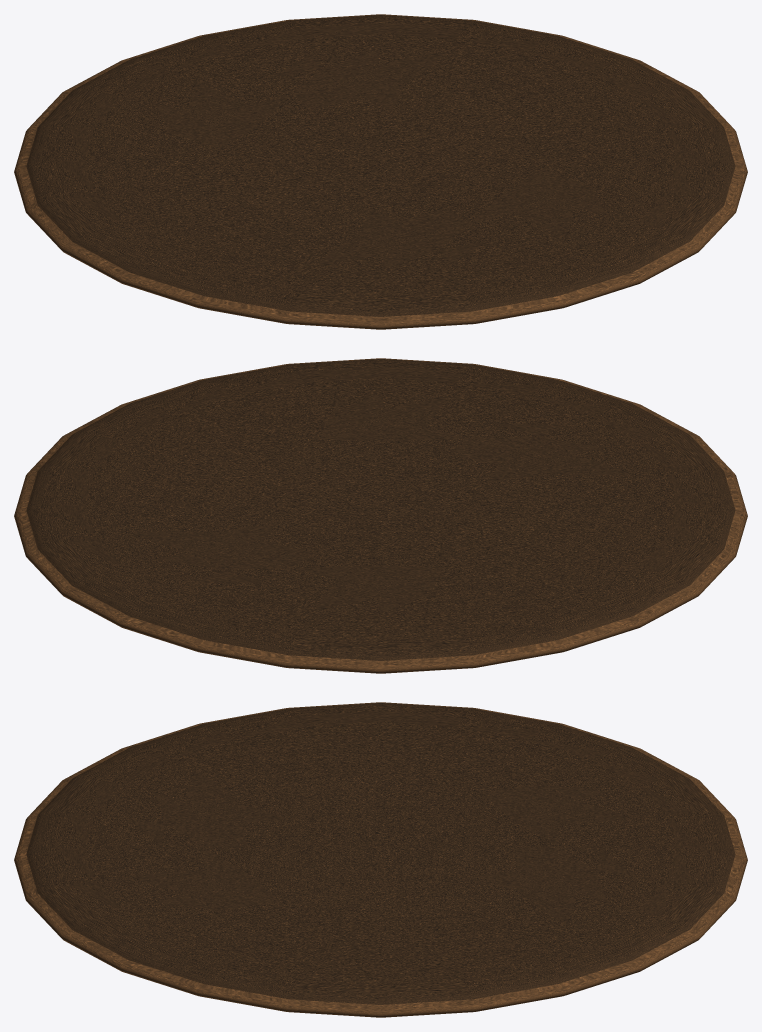
File: Circularcarpet.fbx
3 views of the same model, one above another, from view 1: azimuth 30°, elevation 25°; view 2: azimuth 150°, elevation 25°; view 3: azimuth 270°, elevation 25° (orthographic).
Visible parts, largest first — view 1: circularcarpet; view 2: circularcarpet; view 3: circularcarpet.
Boxes of the visible parts, x1,y1,x2,y2 form: circularcarpet: (14, 14, 747, 329); circularcarpet: (14, 358, 747, 673); circularcarpet: (14, 702, 747, 1017).
Bounding box in the file's own units: 2.22 × 0.075 × 2.21.
